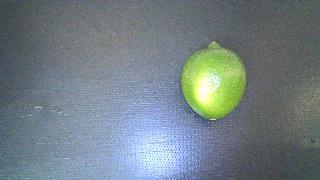EXPORTACION: (181, 42, 246, 120)
